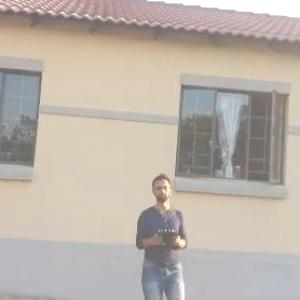follow: (128, 167, 191, 299)
